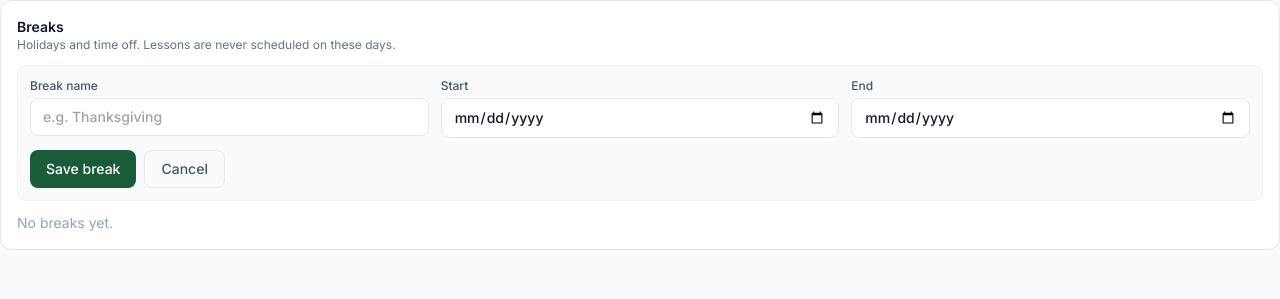
Test: SchoolBreaksPanel — add › shows an inline error and does not save for {"name":"","start":"2026-12-01","end":"2026-12-02"}
Type "2026-12-01" into the date field labelled "Start" at (640, 118), box [441,98,839,138]
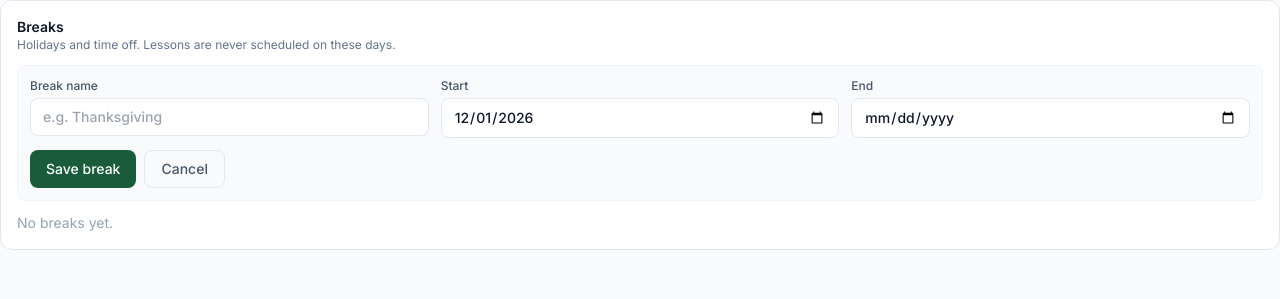
Type "2026-12-02" into the date field labelled "End" at (1051, 118), box [851,98,1250,138]
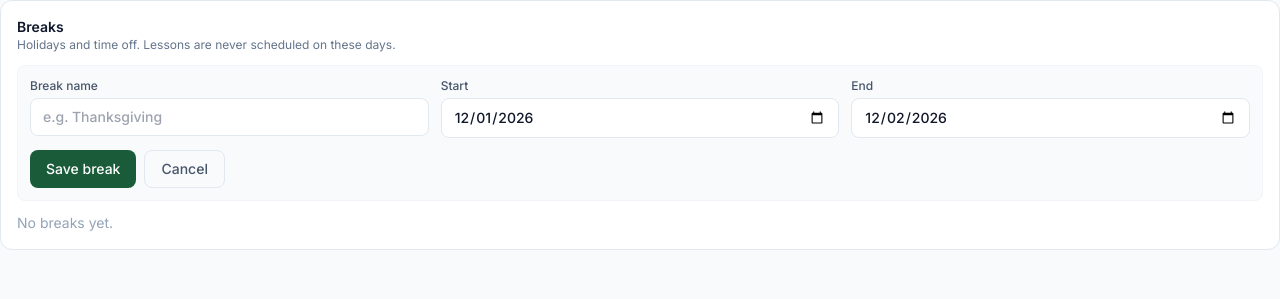
Click the button "Save break" at (83, 169), box [30,150,136,188]
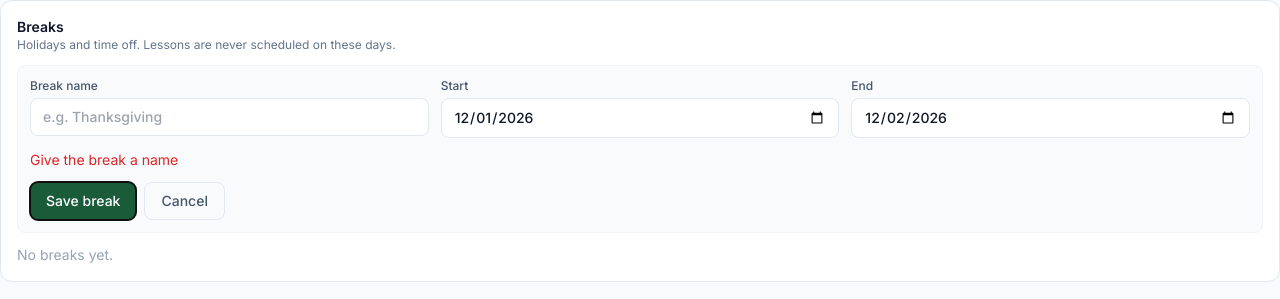
Result: the text "Give the break a name" is shown at [30,151,178,168]
